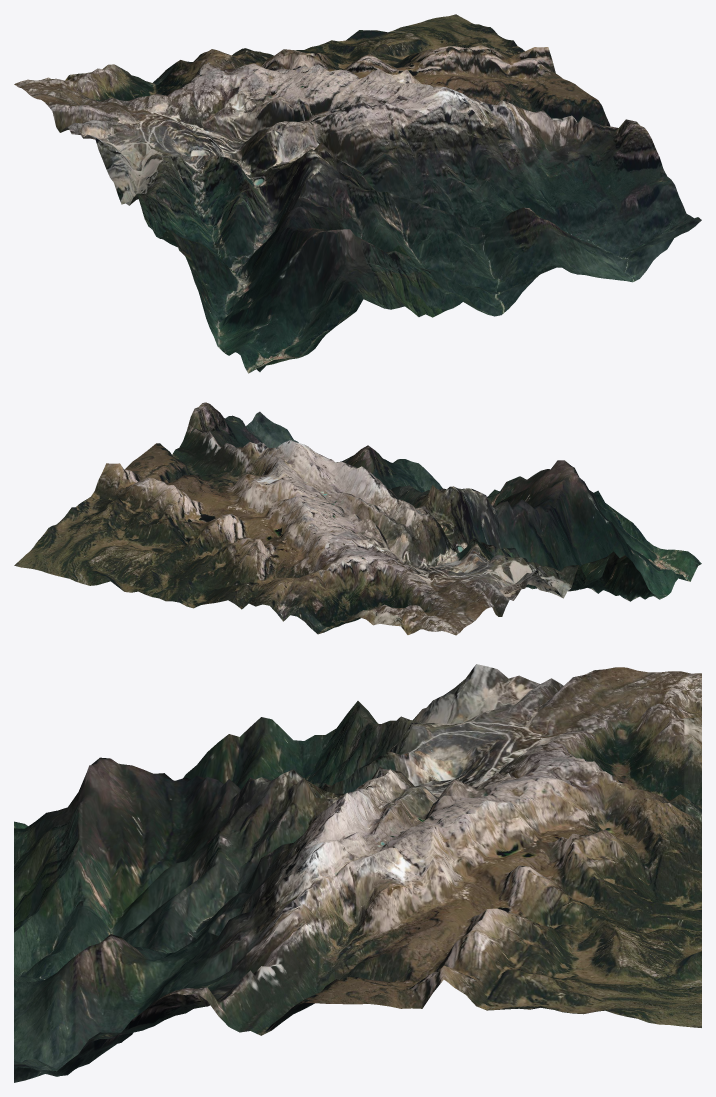
File: carstensz.glb
3 views of the same model, one above another, from view 1: azimuth 30°, elevation 25°; view 2: azimuth 150°, elevation 25°; view 3: azimuth 270°, elevation 25° (orthographic). The views are drawn at different scales.
Visible parts, largest first — view 1: EXPORT_GOOGLE_SAT_WM; view 2: EXPORT_GOOGLE_SAT_WM; view 3: EXPORT_GOOGLE_SAT_WM.
Boxes of the visible parts, x1,y1,x2,y2 form: EXPORT_GOOGLE_SAT_WM: [14, 14, 701, 373]; EXPORT_GOOGLE_SAT_WM: [14, 402, 701, 635]; EXPORT_GOOGLE_SAT_WM: [14, 664, 701, 1082].
Size of the model in its own units: 16949 by 5166 by 16330.
Materials: 1 (1 with a texture image).
